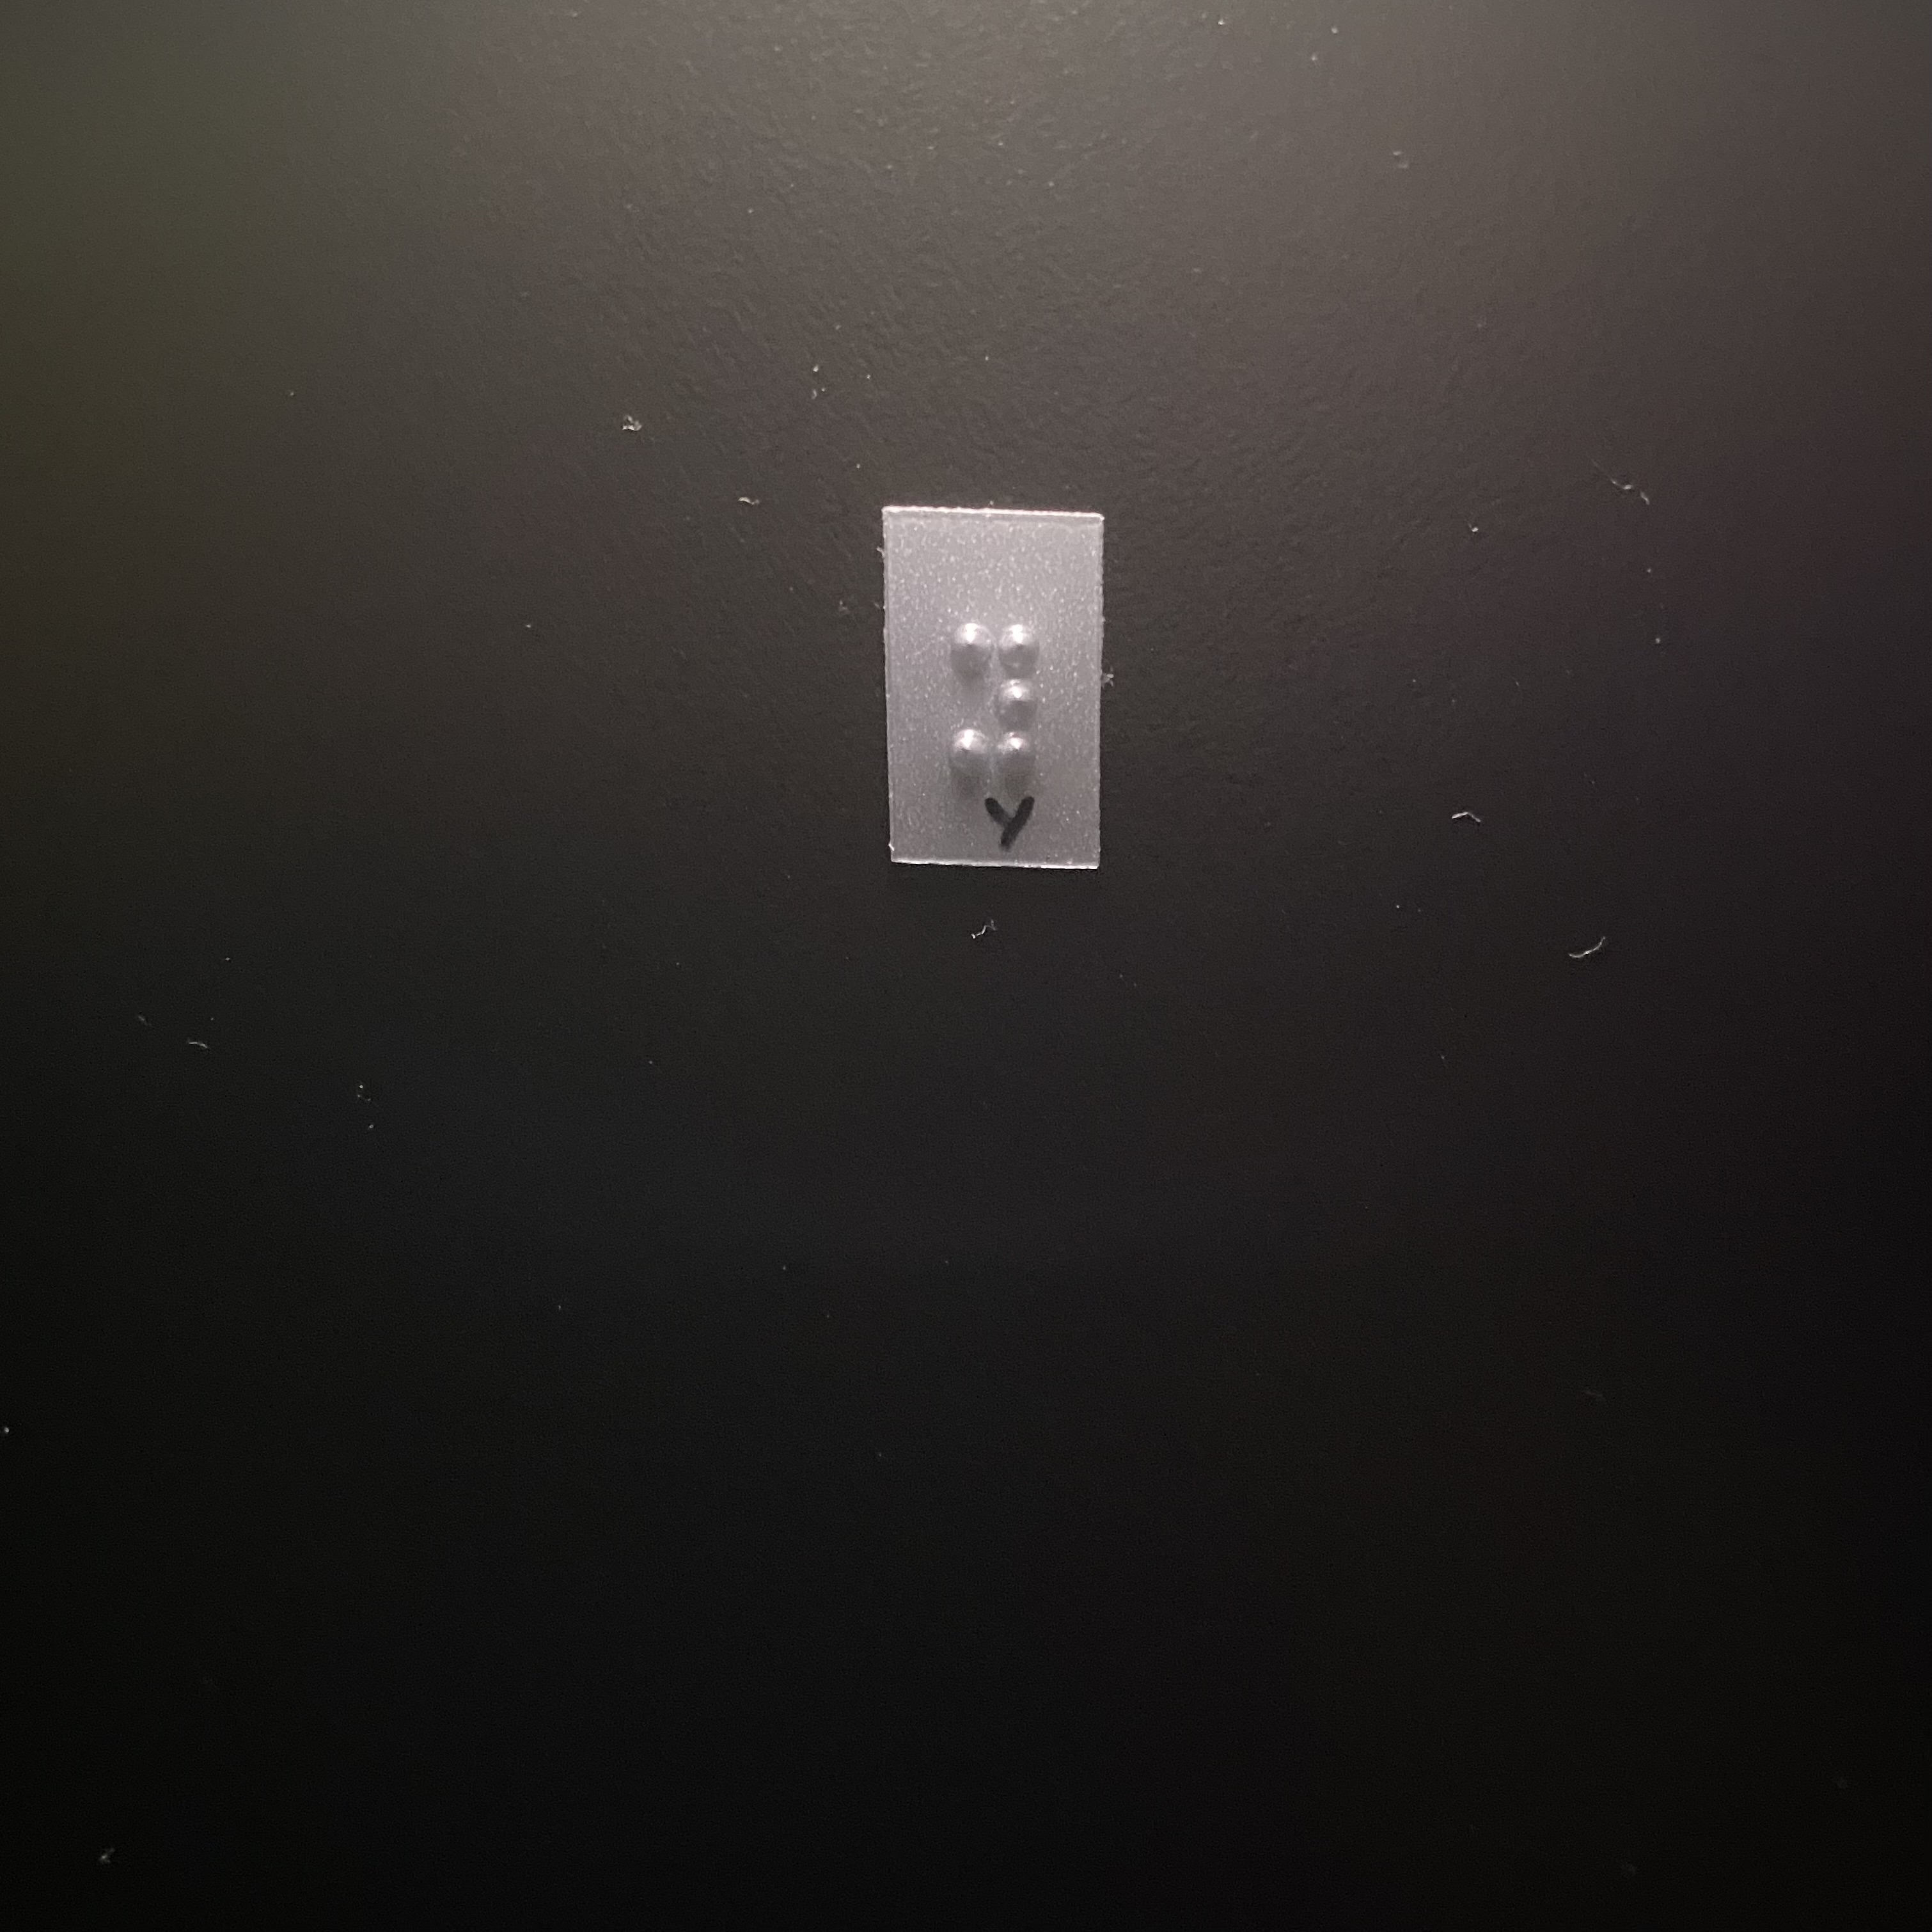y: (932, 609, 1052, 806)
